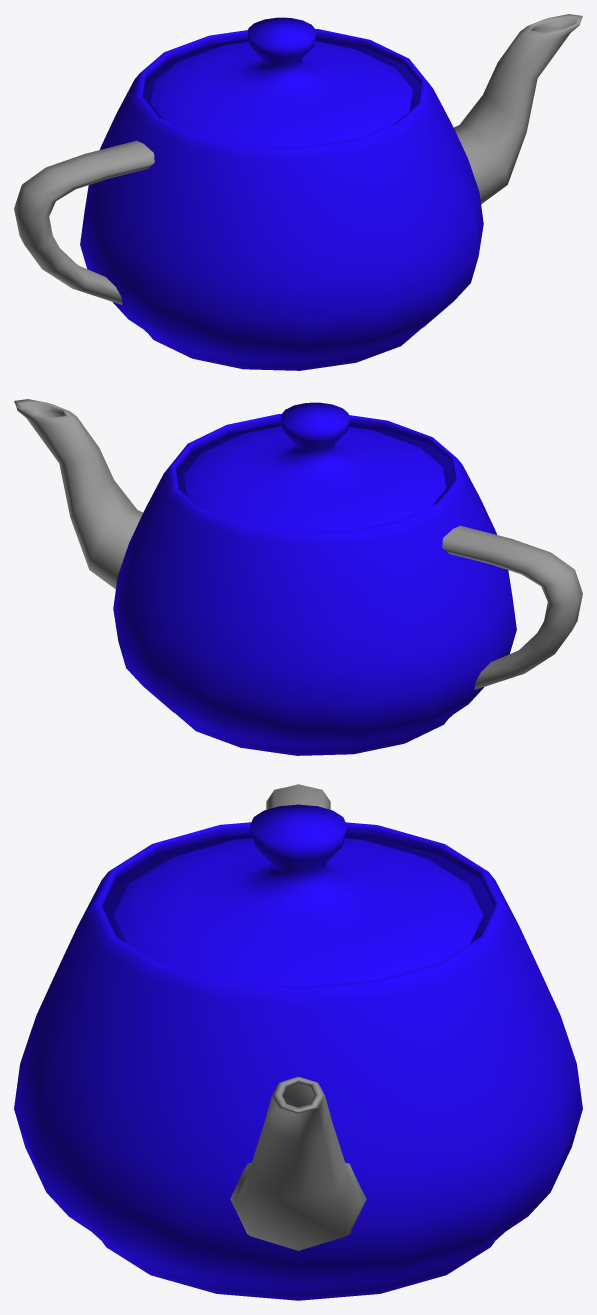
The picture shows the model from 3 angles, top to bottom: view 1: azimuth 30°, elevation 25°; view 2: azimuth 150°, elevation 25°; view 3: azimuth 270°, elevation 25°; orthographic projection. The views are drawn at different scales.
Parts seen in each view (by area): view 1: 对象039, 对象040, 对象041, Teapot001; view 2: 对象039, 对象040, 对象041, Teapot001; view 3: 对象039, 对象040, 对象041, Teapot001.
Part boxes in pixels (box(x1,y1,x2,y2)): 对象039: box(80, 29, 483, 370); 对象040: box(151, 17, 412, 147); 对象041: box(454, 14, 582, 204); Teapot001: box(14, 140, 154, 304); 对象039: box(113, 414, 516, 755); 对象040: box(184, 402, 445, 532); 对象041: box(14, 399, 142, 589); Teapot001: box(442, 525, 582, 689); 对象039: box(14, 822, 582, 1300); 对象040: box(113, 804, 483, 986); 对象041: box(230, 1076, 366, 1250); Teapot001: box(266, 784, 330, 809).
Size of the model in its own units: 52.37 by 25.66 by 32.59.
